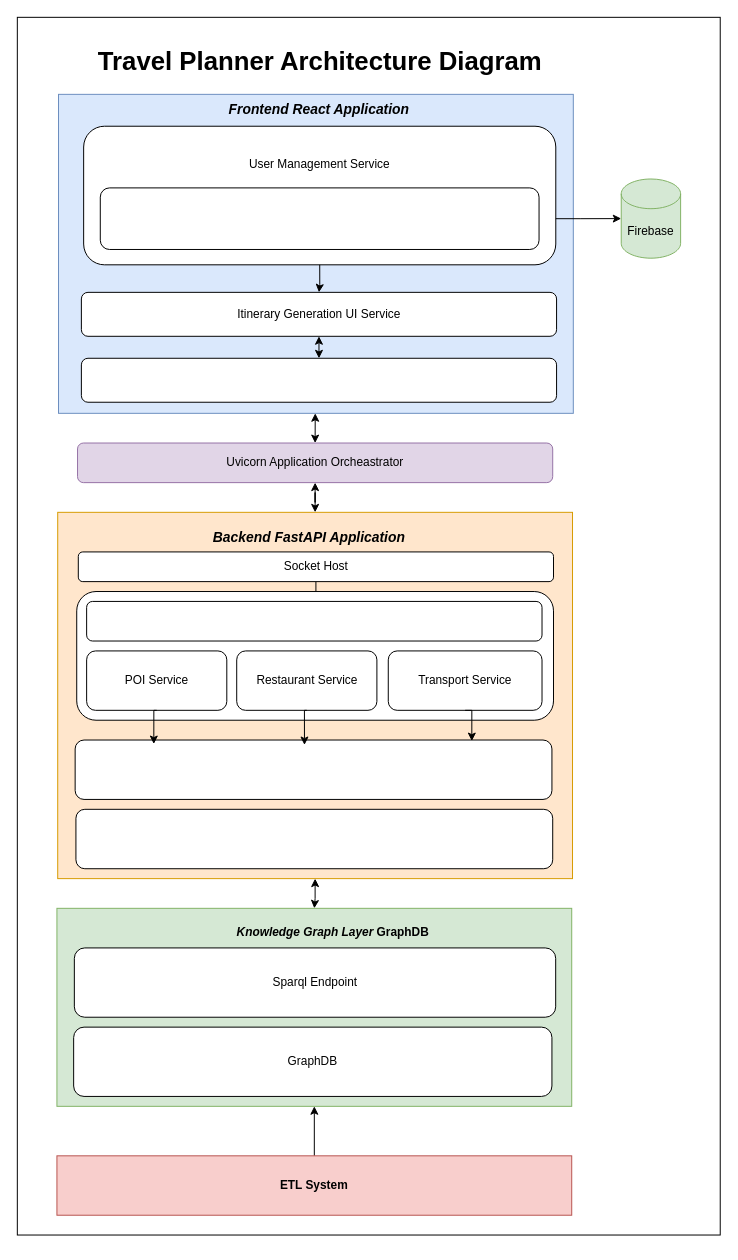
Image size: 738x1260. Some labels were removed from this diagram. The box of each missing label's shape, as (x1, y1, x2, y2) in pixels:
Firebase Communication Layer: (99, 187, 539, 249)
Itinerary Service: (86, 600, 542, 641)
Query Generation Service: (74, 739, 552, 799)
Socket Client: (80, 357, 557, 402)
Sparql Wrapper Service: (75, 808, 553, 869)
